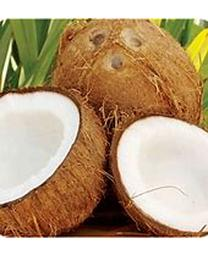coconut: (53, 20, 203, 146), (1, 81, 111, 237), (108, 112, 207, 234)
